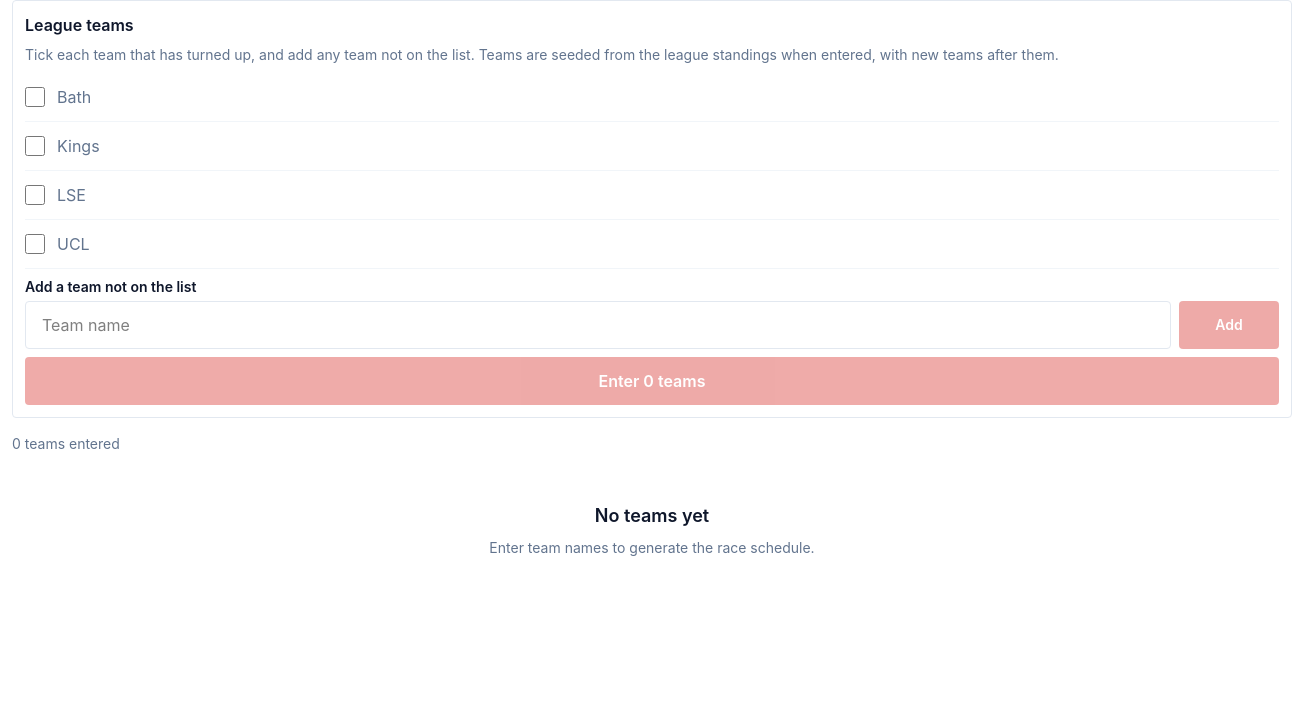
carrying teams over from the league standings › adds a typed team to the list ticked and marked new
In the field with placeholder "Team name": [598, 325] box [25, 301, 1171, 349], type "Exeter"
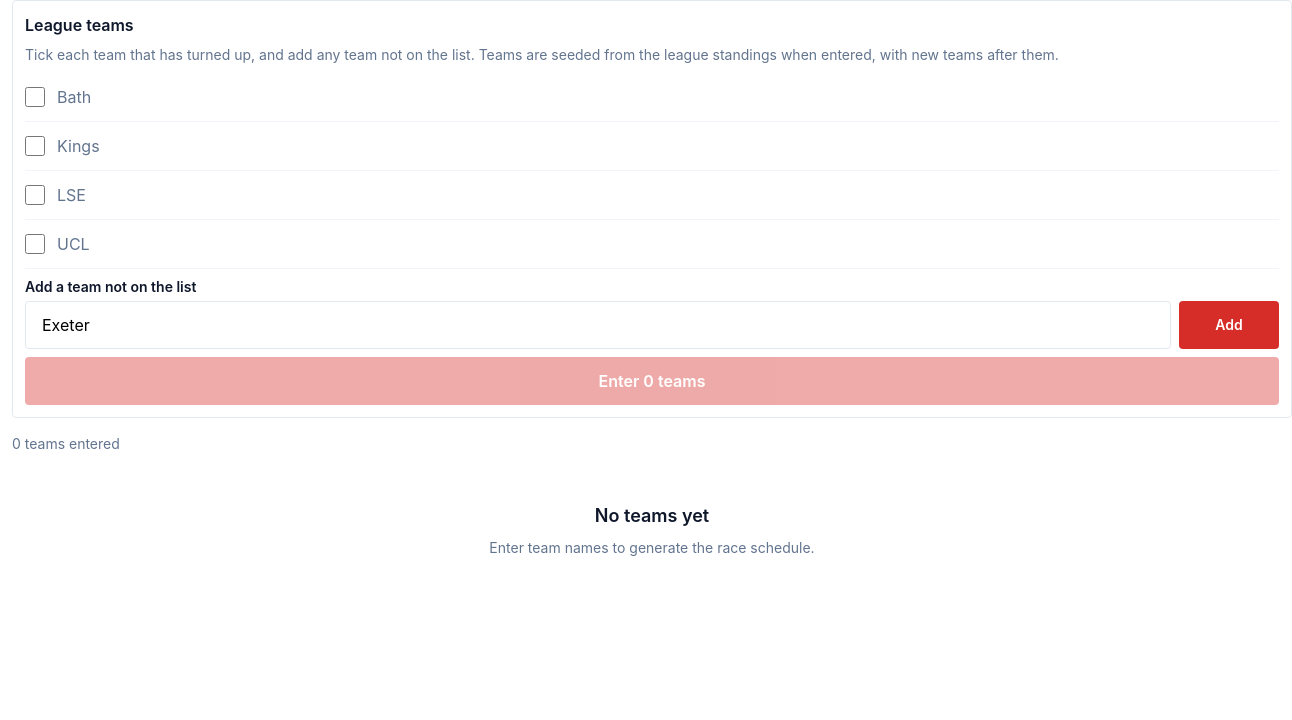
Click the button "Add": [1229, 325] box [1179, 301, 1279, 349]
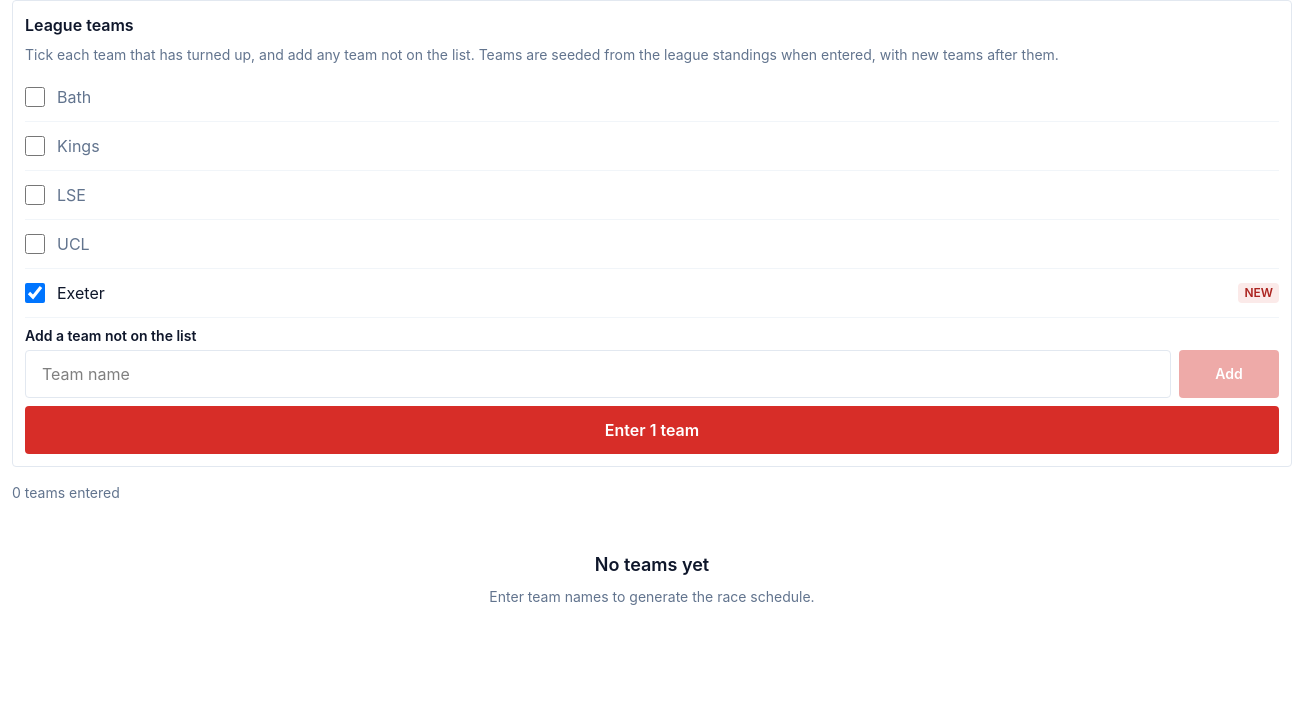
Check: the checkbox labelled "Exeter" is checked, box [25, 283, 45, 303]
Check: the text "New" is shown, box [1238, 283, 1279, 303]
Check: the button "Enter 1 team" is shown, box [25, 406, 1279, 454]
